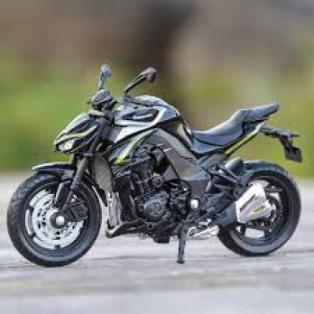Motocicleta: (6, 59, 304, 268)
